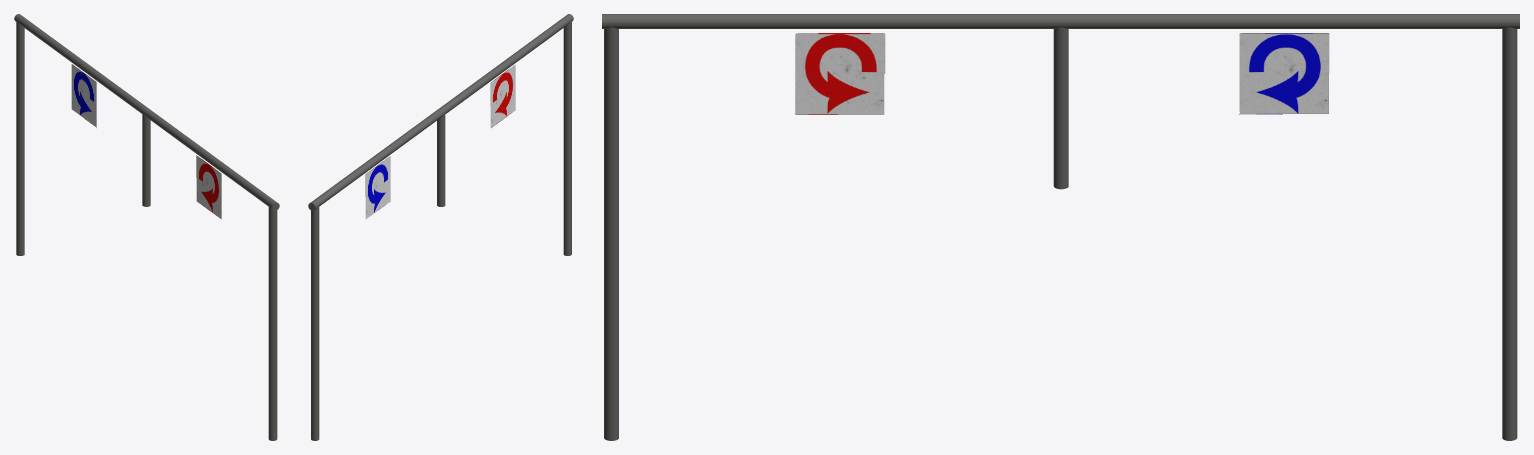
File: gate.dae
3 views of the same model, side by side, from view 1: azimuth 30°, elevation 25°; view 2: azimuth 150°, elevation 25°; view 3: azimuth 270°, elevation 25° (orthographic). The views are drawn at different scales.
Parts seen in each view (by area): view 1: Cylinder, Cylinder.001, Cylinder.002, Plane.001, Plane, Cylinder.003; view 2: Cylinder, Cylinder.002, Cylinder.001, Plane.001, Plane, Cylinder.003; view 3: Cylinder, Plane.001, Plane, Cylinder.002, Cylinder.001, Cylinder.003.
Boxes of the visible parts, left/top/right/bottom form: Cylinder: left=14, top=14, right=279, bottom=210; Cylinder.001: left=268, top=205, right=277, bottom=440; Cylinder.002: left=16, top=21, right=24, bottom=255; Plane.001: left=196, top=155, right=221, bottom=219; Plane: left=71, top=64, right=96, bottom=127; Cylinder.003: left=142, top=113, right=150, bottom=206; Cylinder: left=308, top=14, right=573, bottom=210; Cylinder.002: left=311, top=206, right=319, bottom=440; Cylinder.001: left=563, top=20, right=571, bottom=255; Plane.001: left=490, top=65, right=515, bottom=127; Plane: left=365, top=156, right=390, bottom=218; Cylinder.003: left=437, top=114, right=445, bottom=206; Cylinder: left=602, top=14, right=1519, bottom=28; Plane.001: left=795, top=33, right=885, bottom=114; Plane: left=1239, top=33, right=1329, bottom=114; Cylinder.002: left=1502, top=27, right=1517, bottom=440; Cylinder.001: left=604, top=27, right=618, bottom=440; Cylinder.003: left=1053, top=27, right=1068, bottom=189.
Bounding box in the file's own units: 0.0524 × 3.05 × 1.55.
Materials: 5 (2 with a texture image).
